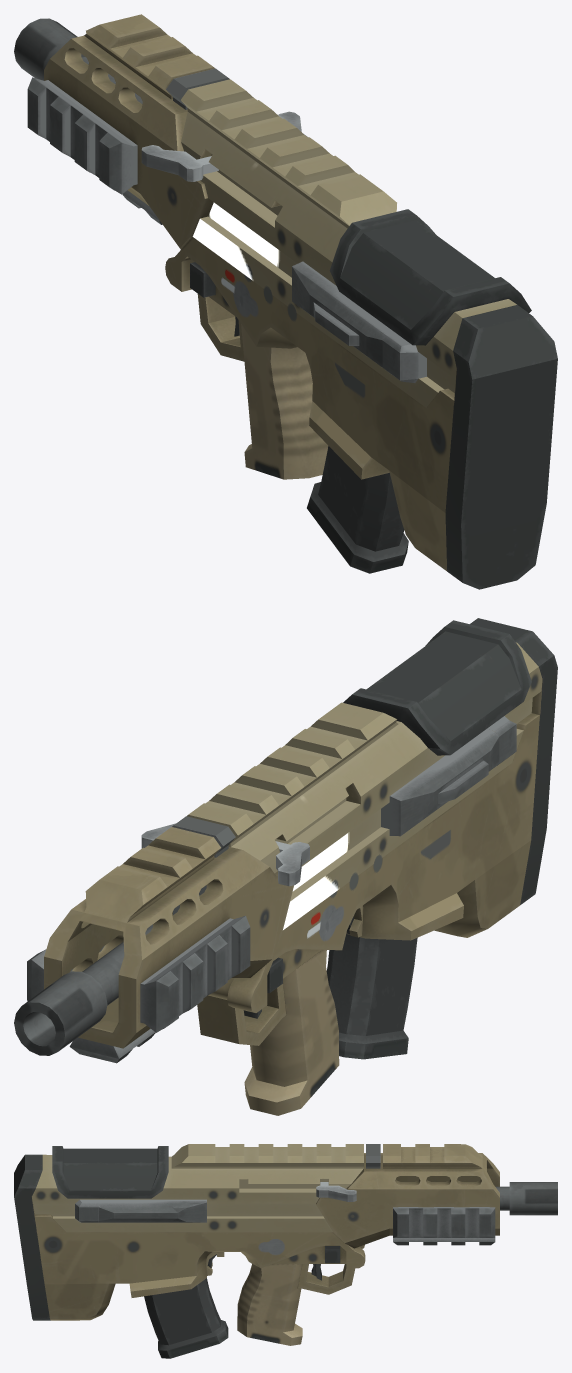
File: IG_Gun_DTDMR556.fbx
3 views of the same model, one above another, from view 1: azimuth 30°, elevation 25°; view 2: azimuth 150°, elevation 25°; view 3: azimuth 270°, elevation 25° (orthographic). The views are drawn at different scales.
Parts seen in each view (by area): view 1: Pfb_WPN_DTMDR556, HideIf_Muzzle; view 2: Pfb_WPN_DTMDR556, HideIf_Muzzle, ShowIf_Tec; view 3: Pfb_WPN_DTMDR556, ShowIf_Tec, HideIf_Muzzle.
Part boxes in pixels (left/top/right/bottom): Pfb_WPN_DTMDR556: left=27, top=14, right=557, bottom=589; HideIf_Muzzle: left=14, top=18, right=84, bottom=80; Pfb_WPN_DTMDR556: left=44, top=618, right=557, bottom=1115; HideIf_Muzzle: left=14, top=971, right=107, bottom=1055; ShowIf_Tec: left=27, top=946, right=104, bottom=1001; Pfb_WPN_DTMDR556: left=14, top=1144, right=509, bottom=1358; ShowIf_Tec: left=393, top=1207, right=495, bottom=1237; HideIf_Muzzle: left=509, top=1182, right=557, bottom=1215.
Size of the model in its own units: 0.1818 by 0.4032 by 0.9768.
